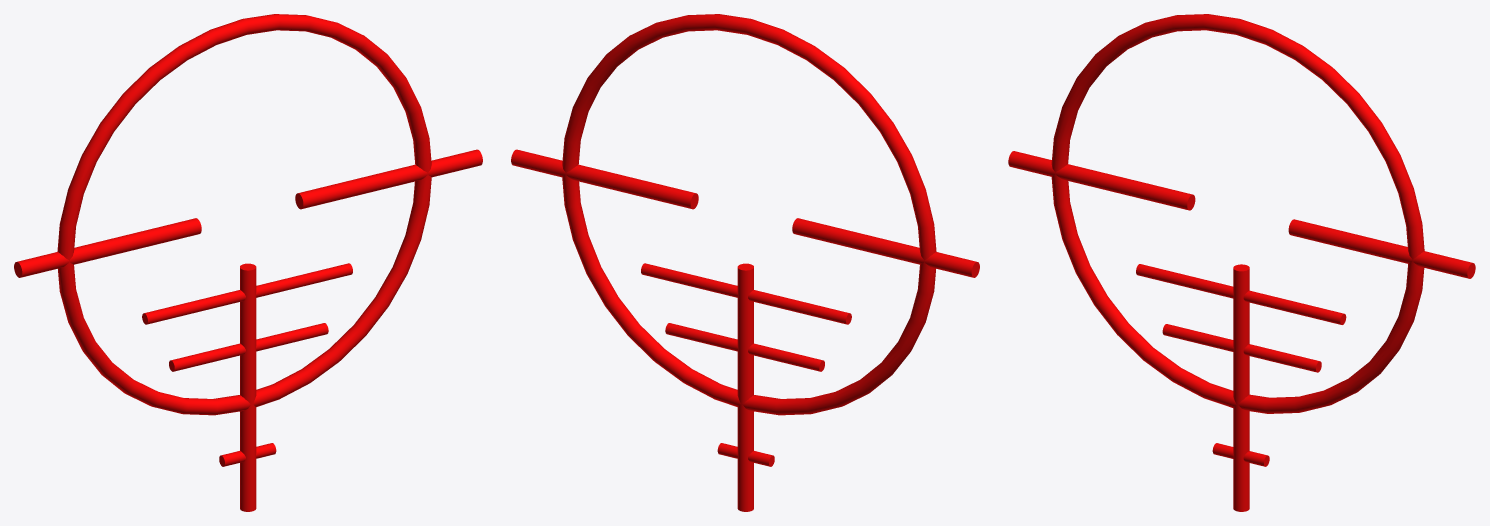
File: ch_granateRed.DAE
3 renders of one model, left to right at view 1: azimuth 30°, elevation 25°; view 2: azimuth 150°, elevation 25°; view 3: azimuth 330°, elevation 25°, orthographic.
Parts seen in each view (by area): view 1: Torus008, Zylinder007, Zylinder012, Zylinder006, Zylinder008, Zylinder009, Zylinder011; view 2: Torus008, Zylinder007, Zylinder012, Zylinder006, Zylinder008, Zylinder009, Zylinder011; view 3: Torus008, Zylinder007, Zylinder006, Zylinder012, Zylinder008, Zylinder009, Zylinder011.
Boxes of the visible parts, <box> form: Torus008: <box>57,14,431,415</box>; Zylinder007: <box>240,263,256,511</box>; Zylinder012: <box>295,149,482,209</box>; Zylinder006: <box>14,218,201,277</box>; Zylinder008: <box>142,263,352,324</box>; Zylinder009: <box>169,323,328,371</box>; Zylinder011: <box>219,443,276,466</box>; Torus008: <box>562,14,936,415</box>; Zylinder007: <box>737,263,753,511</box>; Zylinder012: <box>511,149,698,209</box>; Zylinder006: <box>792,218,979,277</box>; Zylinder008: <box>641,263,851,324</box>; Zylinder009: <box>665,323,824,371</box>; Zylinder011: <box>717,443,774,466</box>; Torus008: <box>1051,14,1424,413</box>; Zylinder007: <box>1233,264,1249,511</box>; Zylinder006: <box>1008,151,1195,210</box>; Zylinder012: <box>1288,219,1475,278</box>; Zylinder008: <box>1136,264,1346,324</box>; Zylinder009: <box>1162,324,1321,372</box>; Zylinder011: <box>1212,443,1269,466</box>.
Size of the model in its own units: 0.3435 by 0.0107 by 0.3492.
1 material, 1 textured.
